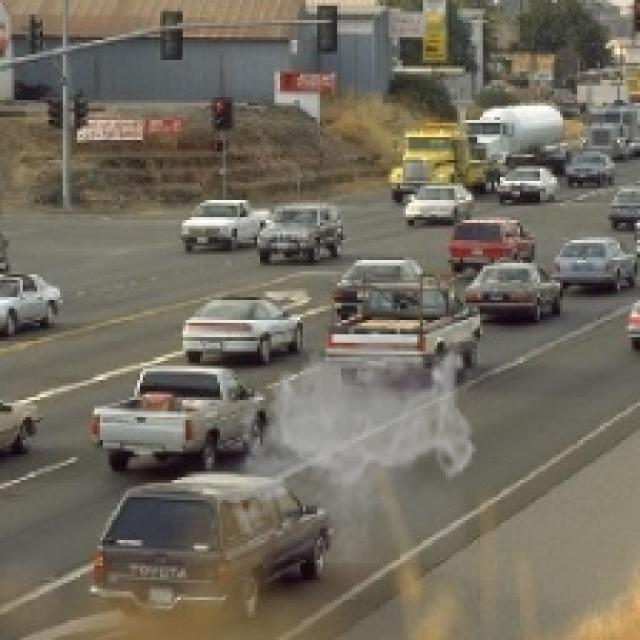Smoke: (223, 317, 480, 563)
